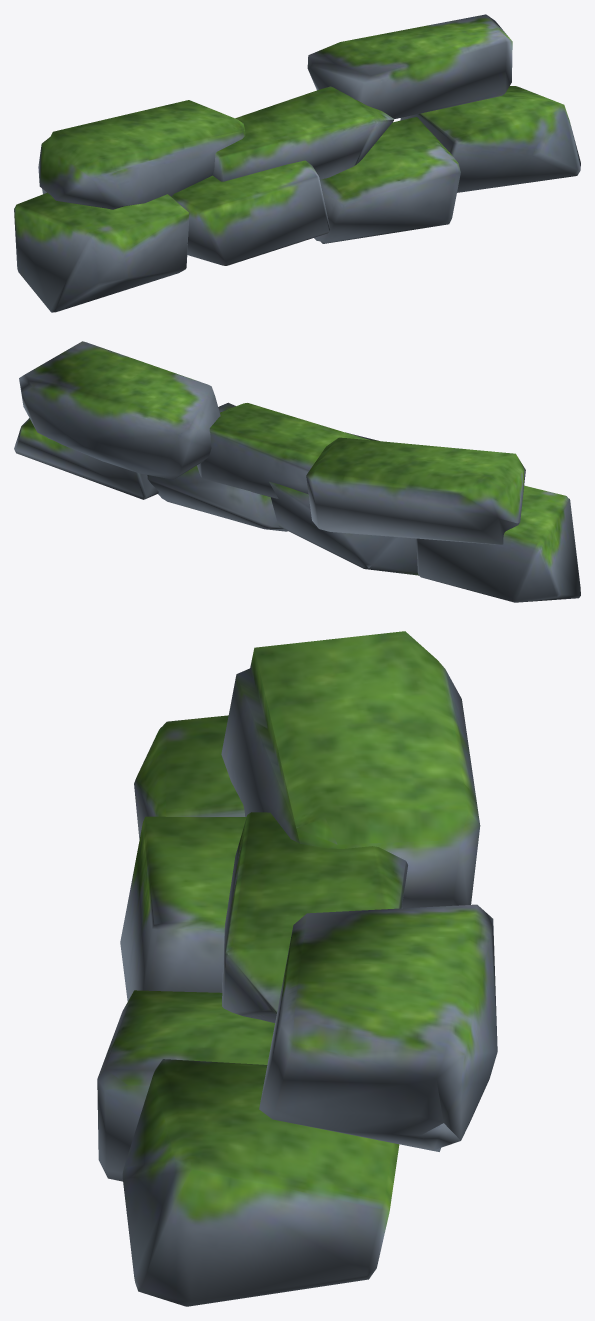
The model's file is cliff_c_lod1.glb.
3 renders of one model, top to bottom at view 1: azimuth 30°, elevation 25°; view 2: azimuth 150°, elevation 25°; view 3: azimuth 270°, elevation 25°, orthographic. The views are drawn at different scales.
Parts seen in each view (by area): view 1: cliff_c_lod1; view 2: cliff_c_lod1; view 3: cliff_c_lod1.
Part boxes in pixels (left/top/right/bottom): cliff_c_lod1: left=14, top=14, right=580, bottom=312; cliff_c_lod1: left=14, top=341, right=580, bottom=602; cliff_c_lod1: left=97, top=631, right=497, bottom=1306.
Bounding box in the file's own units: 6.43 × 1.74 × 2.12.
1 material, 1 textured.
